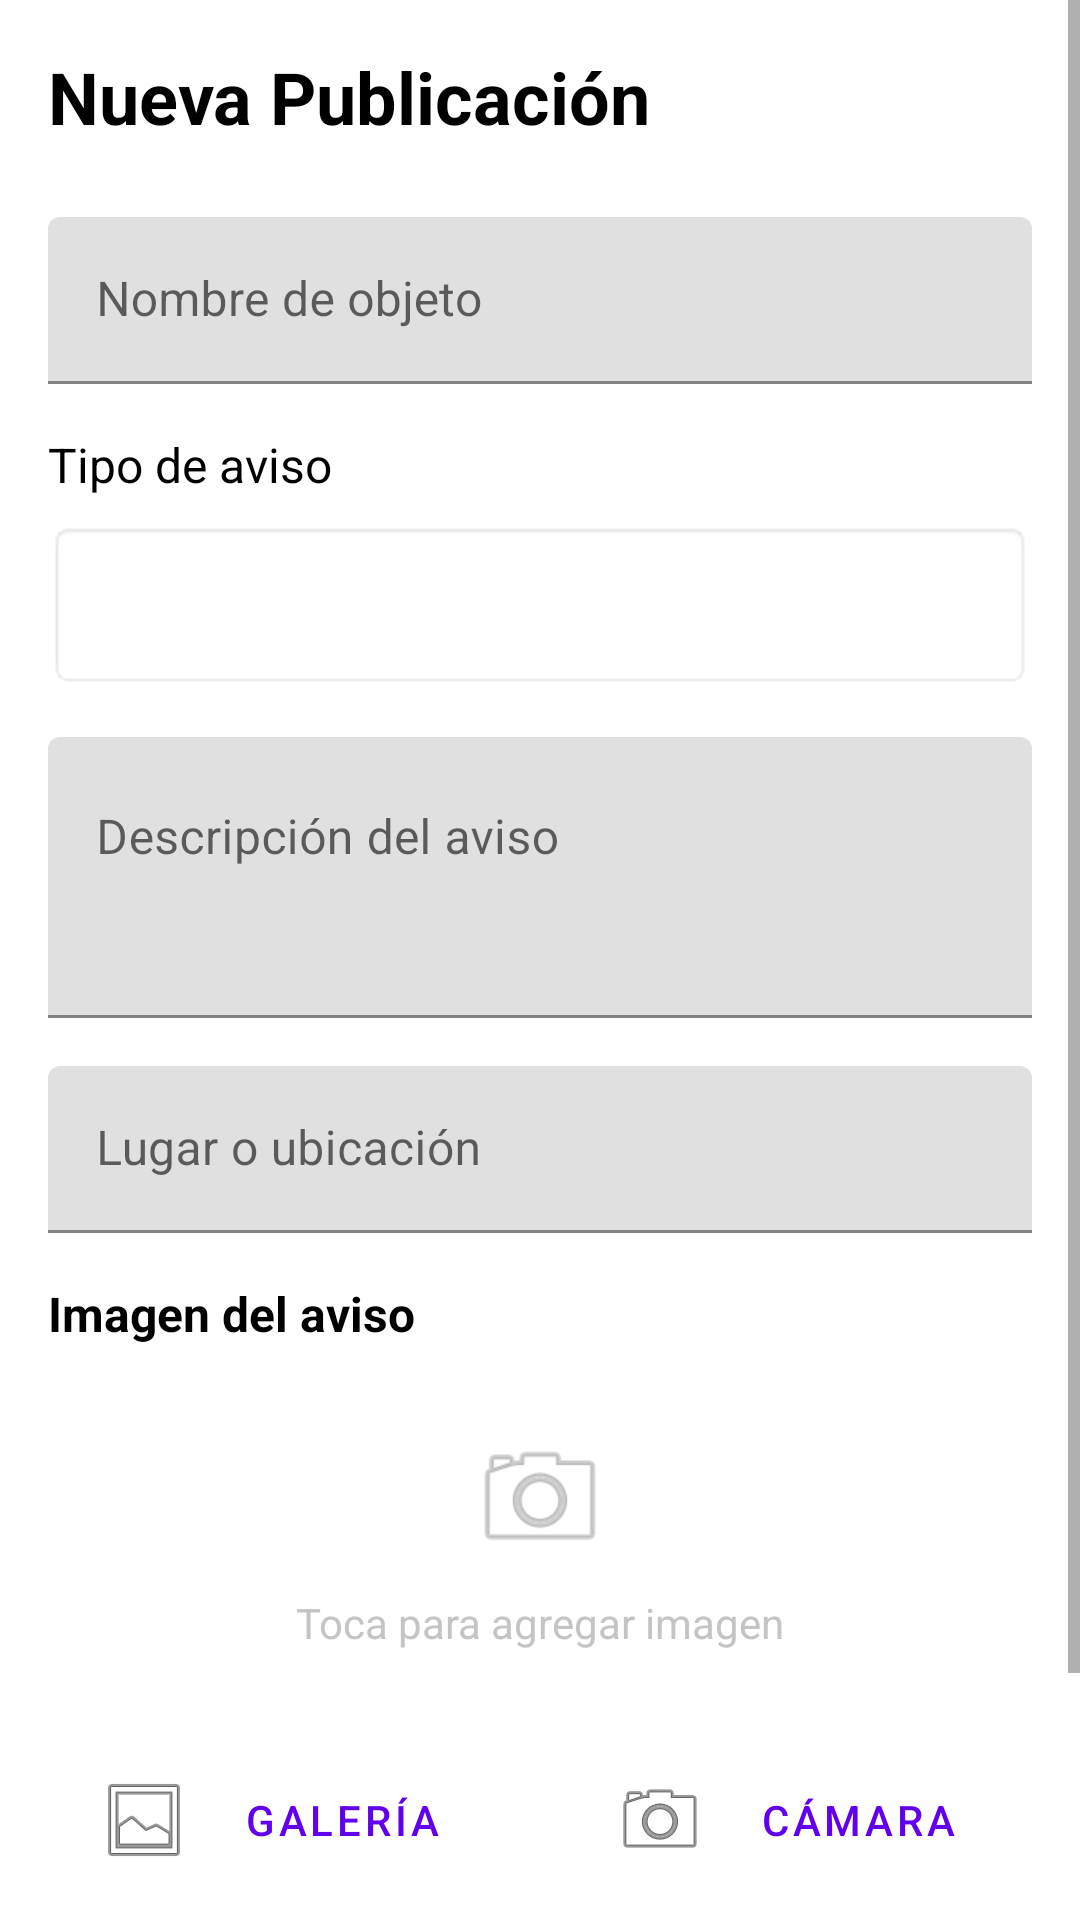

Named icons in this screenshot (1080×1920) and their bounding boxes, box(x1, y1, x2, y2):
Ícono de cámara: box(485, 1452, 595, 1540)
